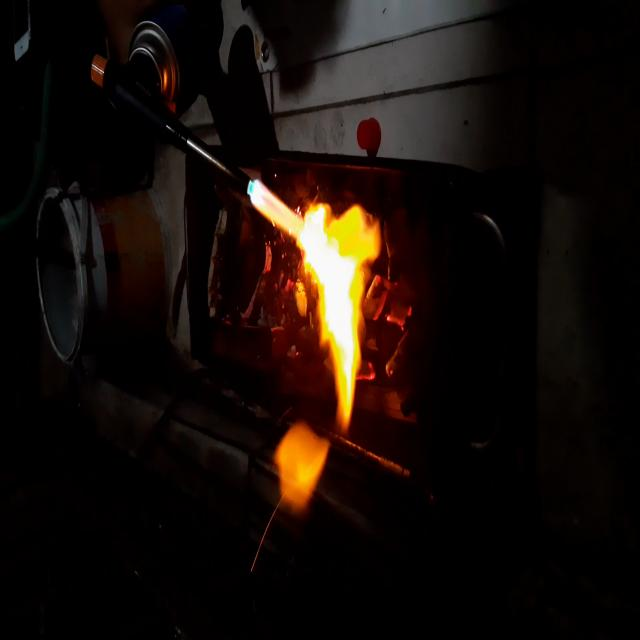Fire: (243, 159, 381, 532)
